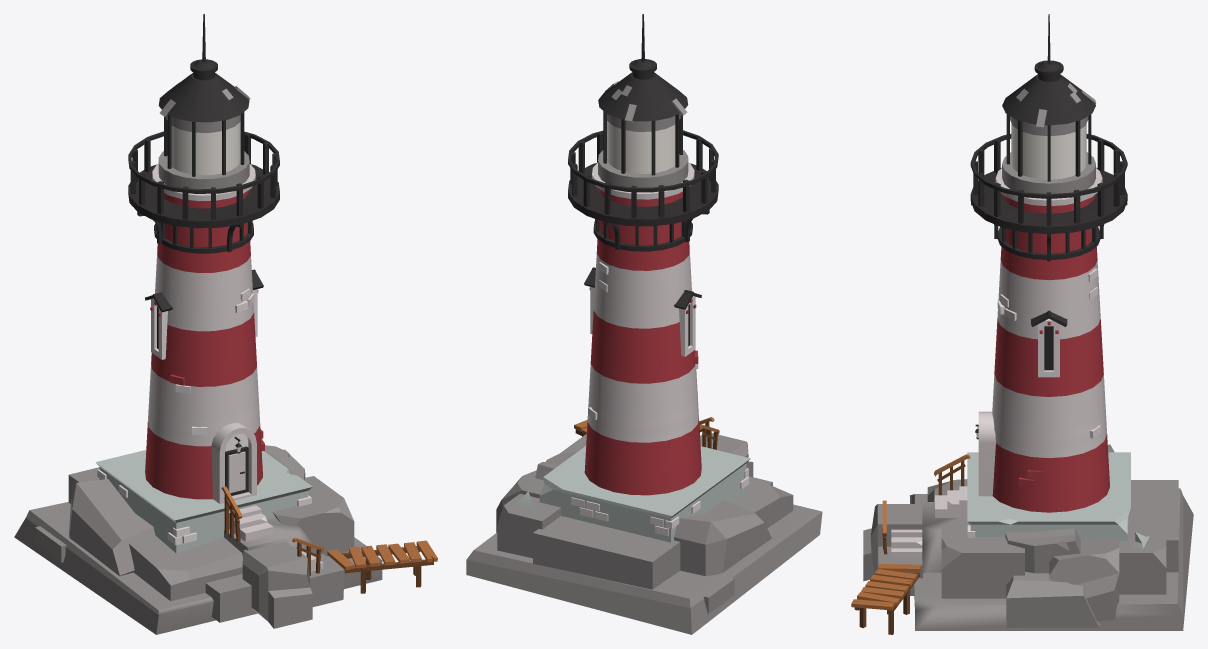
The model's file is Lighthouse.glb.
3 renders of one model, left to right at view 1: azimuth 30°, elevation 25°; view 2: azimuth 150°, elevation 25°; view 3: azimuth 270°, elevation 25°, orthographic. The views are drawn at different scales.
Visible parts, largest first — view 1: Lighthouse1; view 2: Lighthouse1; view 3: Lighthouse1.
Boxes of the visible parts, <box> form: Lighthouse1: <box>14,14,437,634</box>; Lighthouse1: <box>466,14,822,634</box>; Lighthouse1: <box>851,14,1193,634</box>.
Bounding box in the file's own units: 10.05 × 19.7 × 10.92.
1 material, 1 textured.
